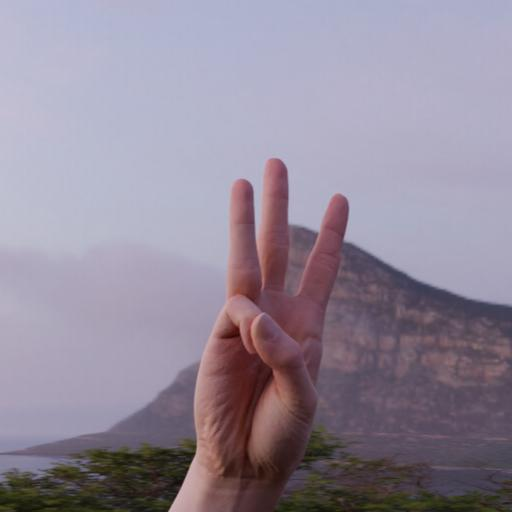W: (193, 154, 353, 467)
